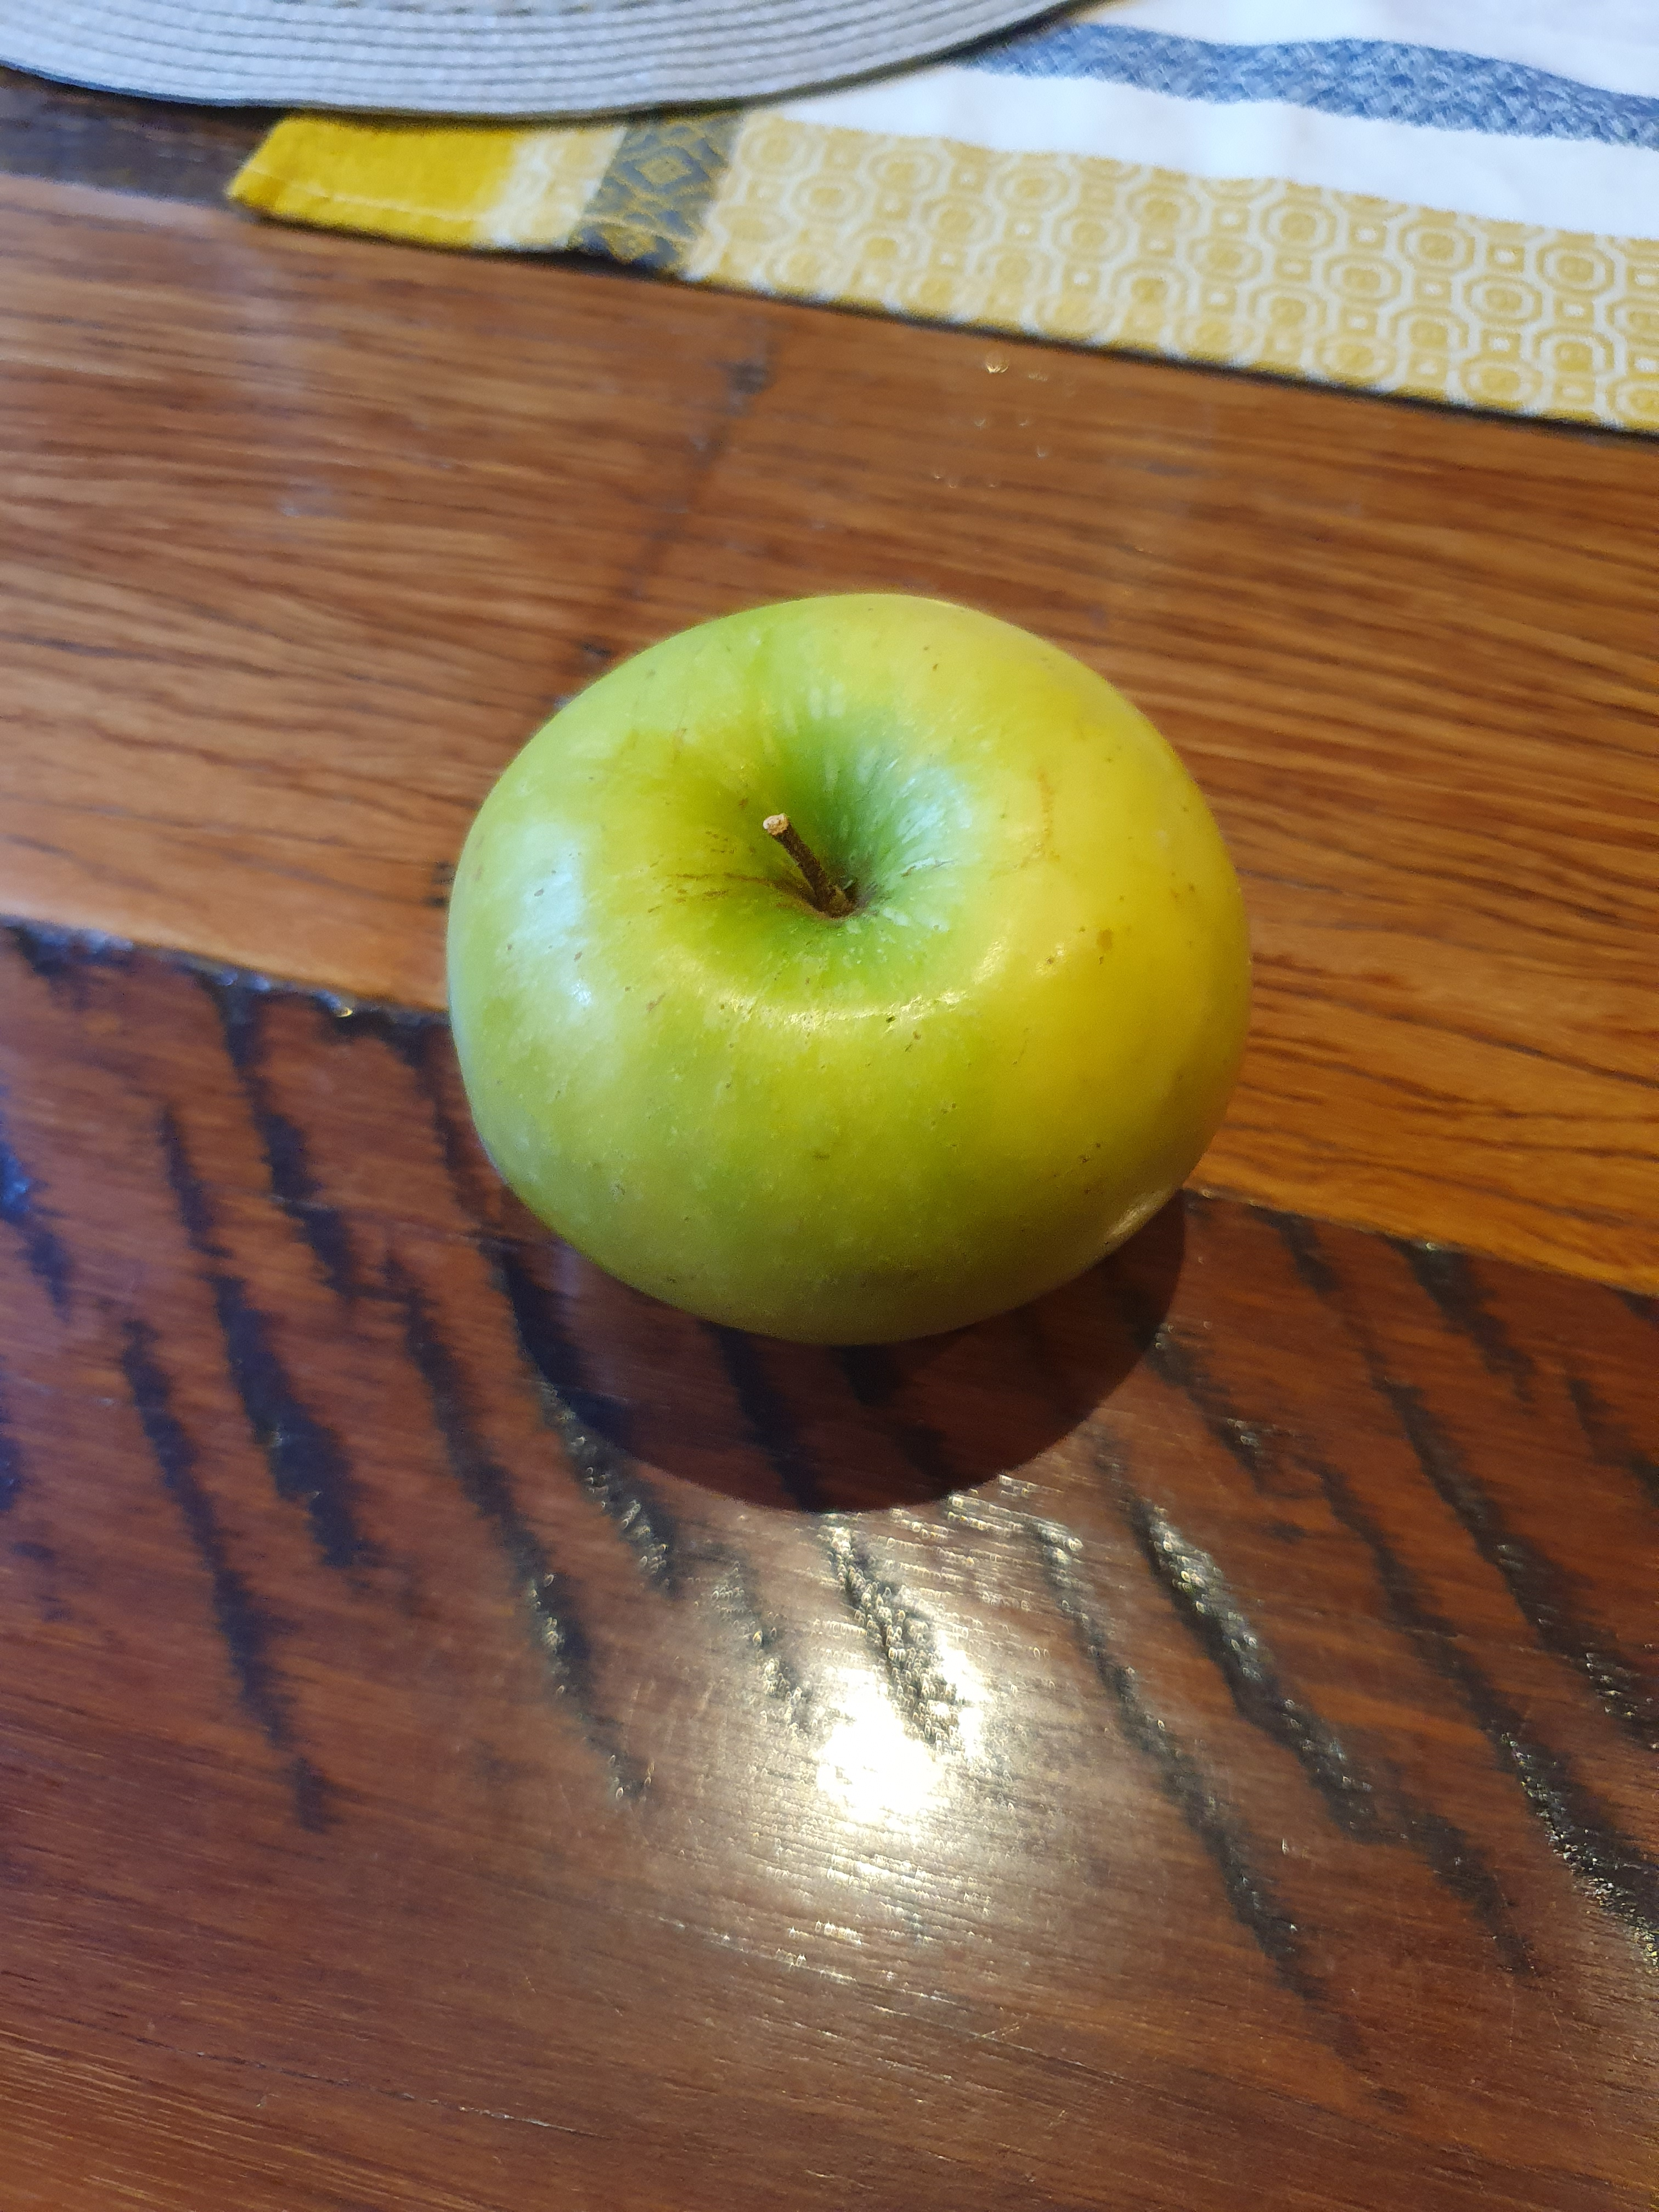green_apple: (389, 568, 1265, 1355)
